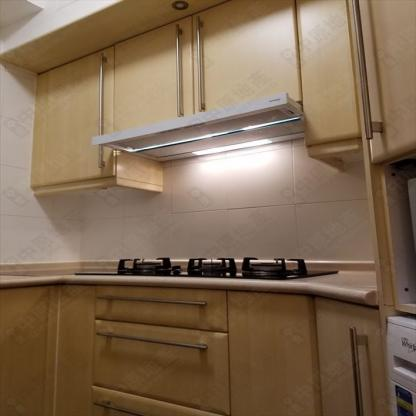Cupboard: (33, 0, 365, 190), (0, 281, 380, 413)
Exhaust Hood: (89, 93, 303, 164)
Stove: (63, 255, 335, 279)
